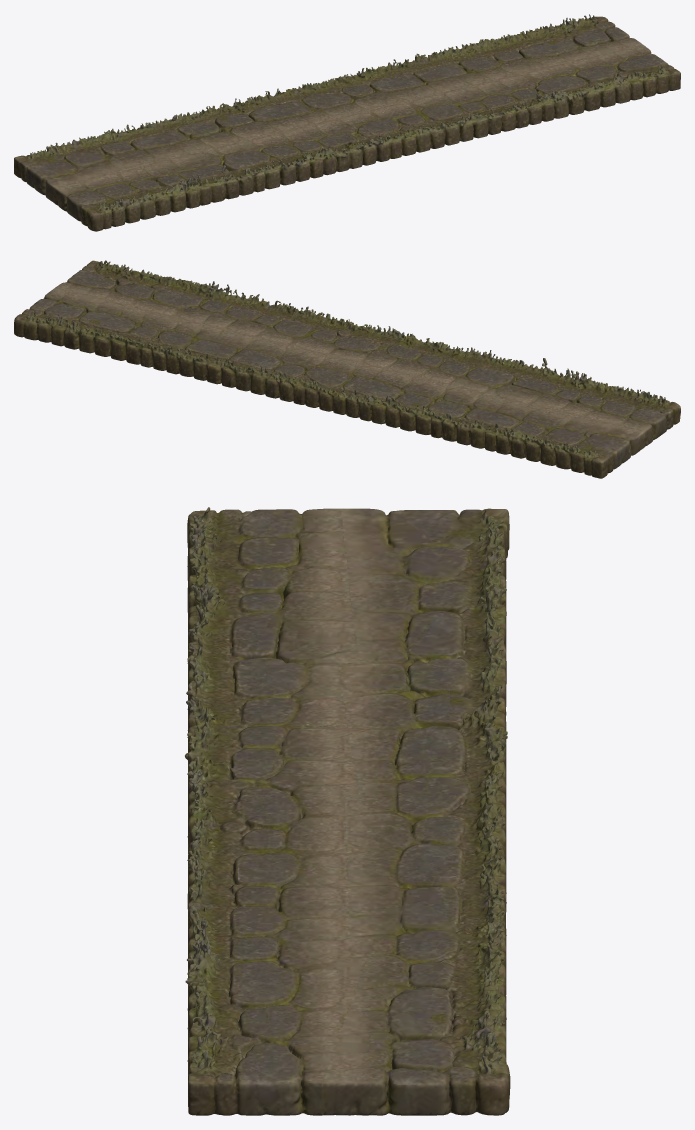
Rendered from Meshy_AI_road_downhill_0823031756_image-to-3d-texture.glb.
3 renders of one model, top to bottom at view 1: azimuth 30°, elevation 25°; view 2: azimuth 150°, elevation 25°; view 3: azimuth 270°, elevation 25°, orthographic. The views are drawn at different scales.
Parts seen in each view (by area): view 1: mesh_node; view 2: mesh_node; view 3: mesh_node.
Boxes of the visible parts, x1,y1,x2,y2 form: mesh_node: (14, 14, 680, 231); mesh_node: (14, 260, 680, 478); mesh_node: (185, 507, 510, 1115).
Size of the model in its own units: 1.9 by 0.0995 by 0.4557.
1 material, 1 textured.
